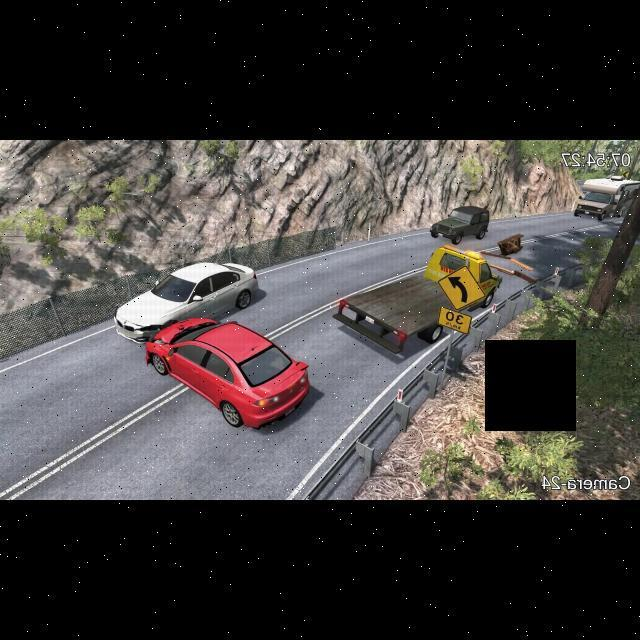moderate: (109, 257, 314, 432)
